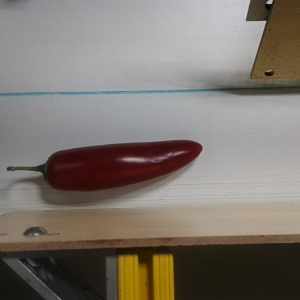Cut Point: (35, 149, 64, 192)
